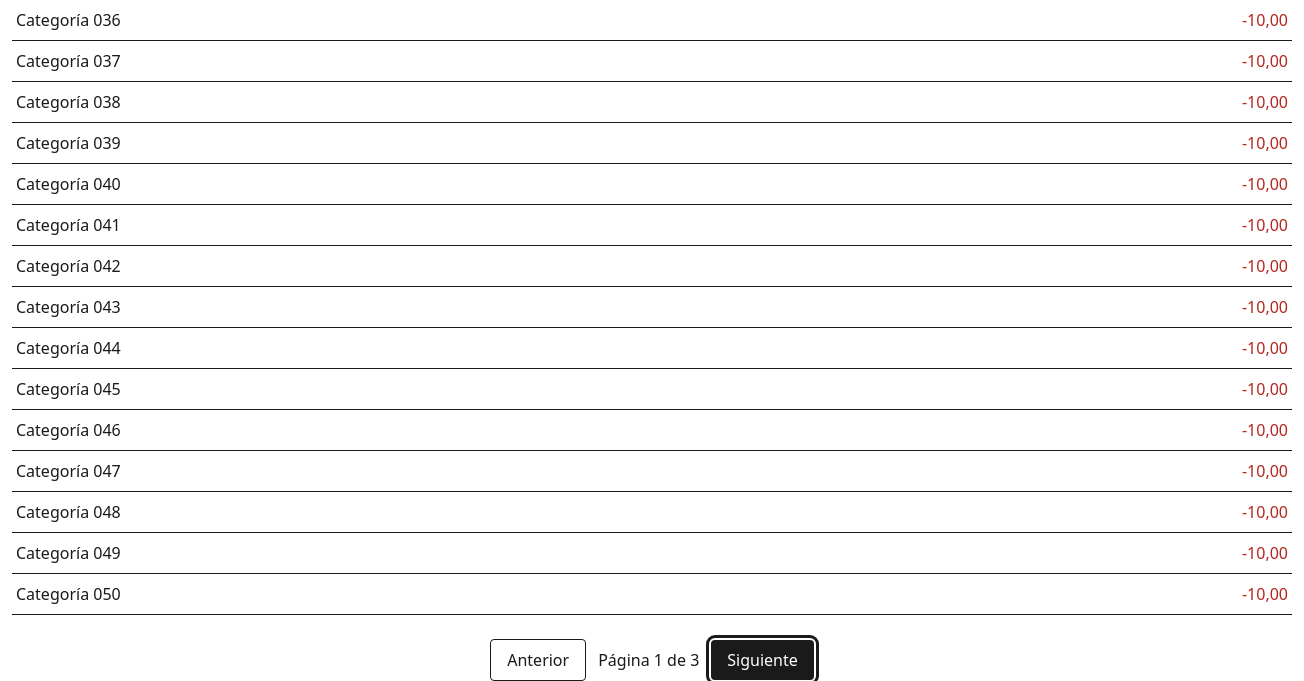
Test case: SeccionCuenta › con "Siguiente" hasta la última página el foco pasa a "Anterior", y con "Anterior" hasta la primera vuelve a "Siguiente" (NFR-07)
(page scrolled)
Expected: the text "Página 1 de 3" is shown, [598, 648, 699, 672]
Click the button "Siguiente": click(763, 660) [711, 640, 814, 680]
(page scrolled)
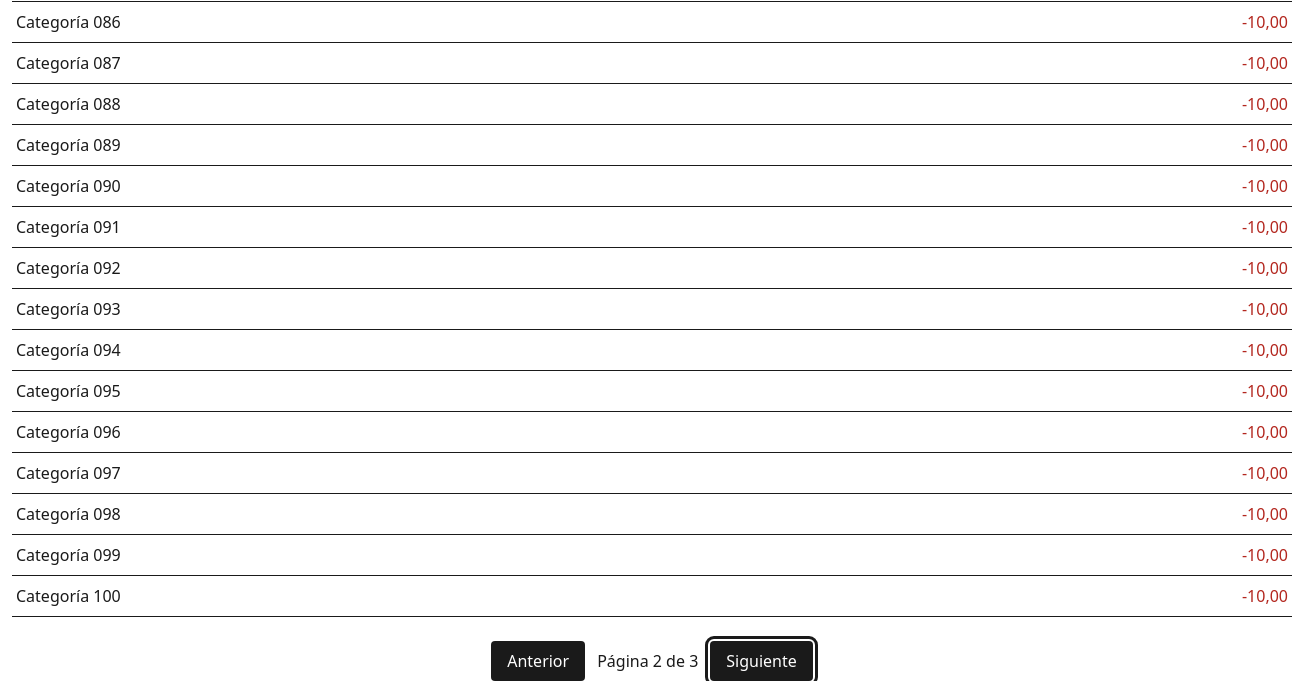
Expected: the text "Página 2 de 3" is shown, [597, 649, 698, 673]
Click the button "Siguiente": click(762, 661) [710, 641, 813, 680]
(page scrolled)
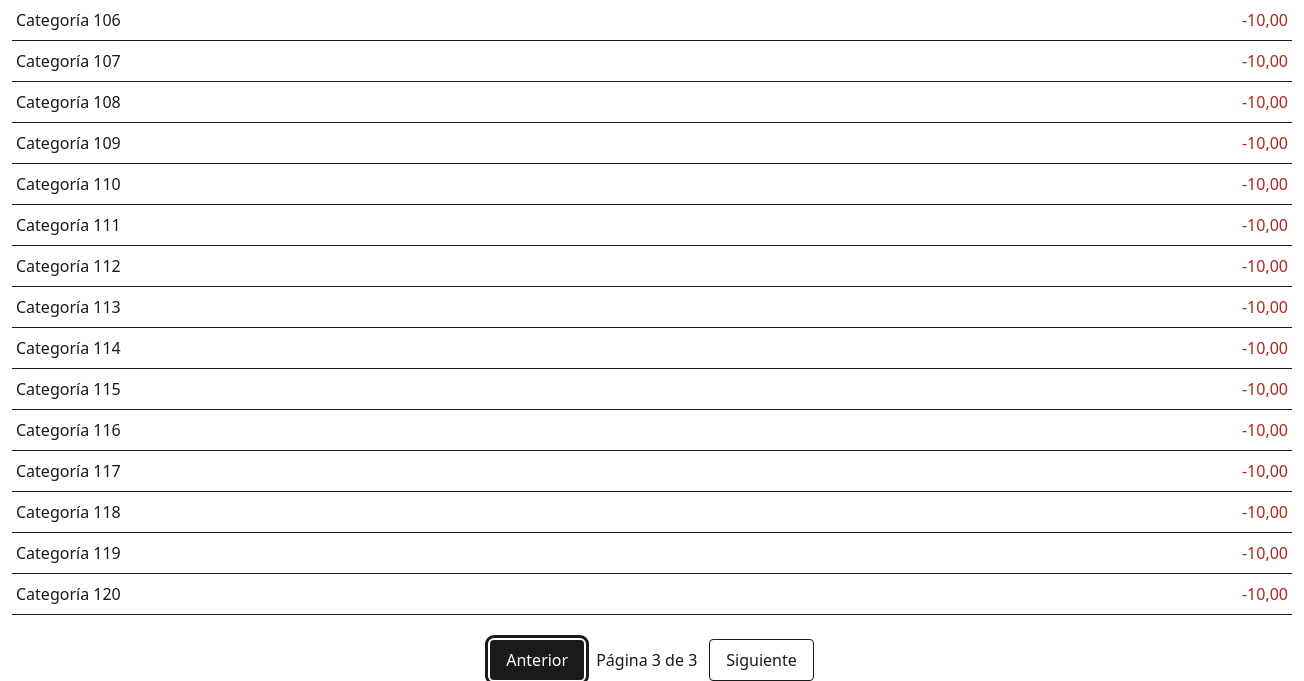
Expected: the text "Página 3 de 3" is shown, [596, 648, 697, 672]
Expected: the button "Siguiente" is disabled, [709, 639, 814, 680]
Click the button "Anterior": click(537, 660) [490, 640, 584, 680]
(page scrolled)
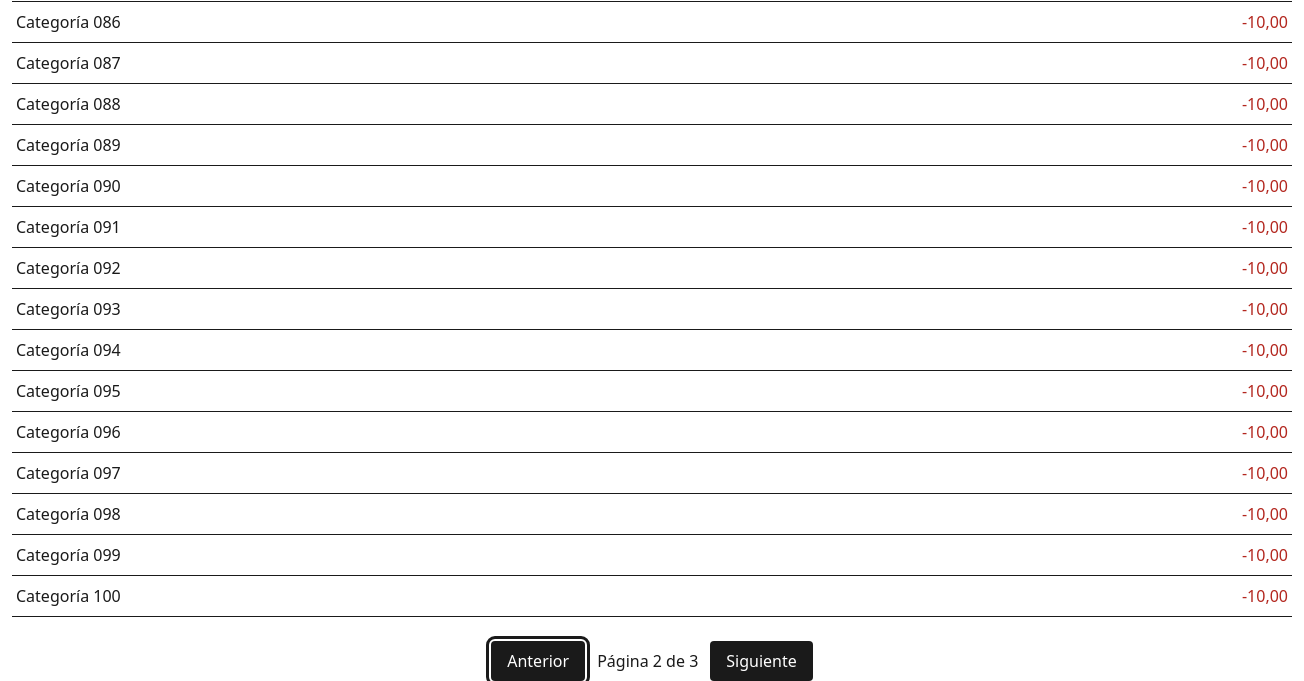
Expected: the text "Página 2 de 3" is shown, [597, 649, 698, 673]
Click the button "Anterior": click(538, 661) [491, 641, 585, 680]
(page scrolled)
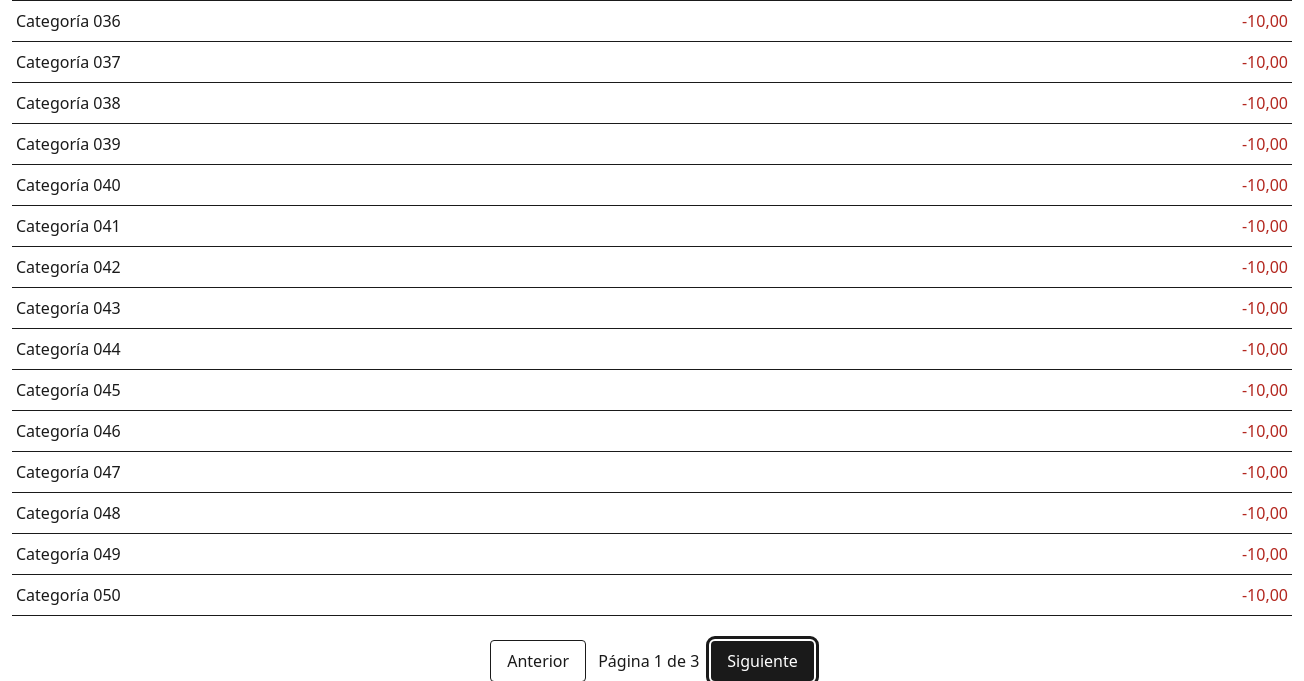
Expected: the text "Página 1 de 3" is shown, [598, 649, 699, 673]
Expected: the button "Anterior" is disabled, [490, 640, 586, 680]
